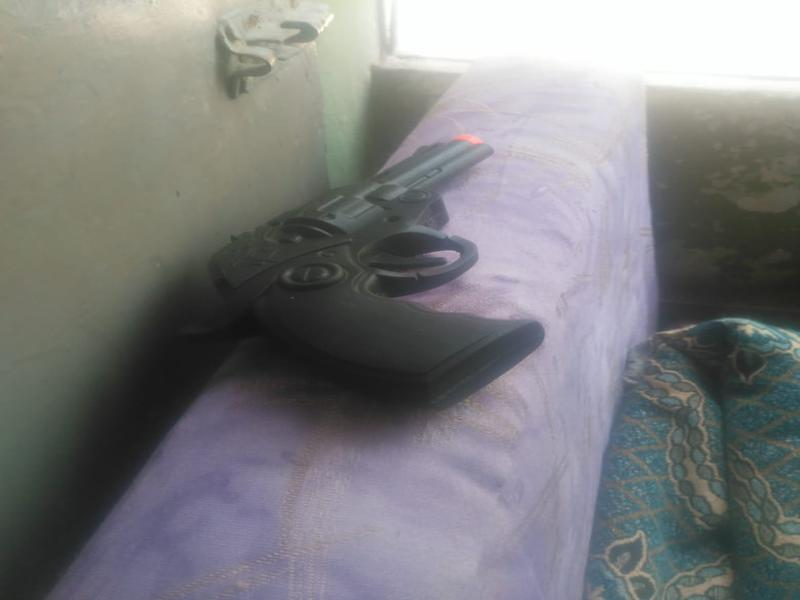gun: (129, 115, 636, 388)
